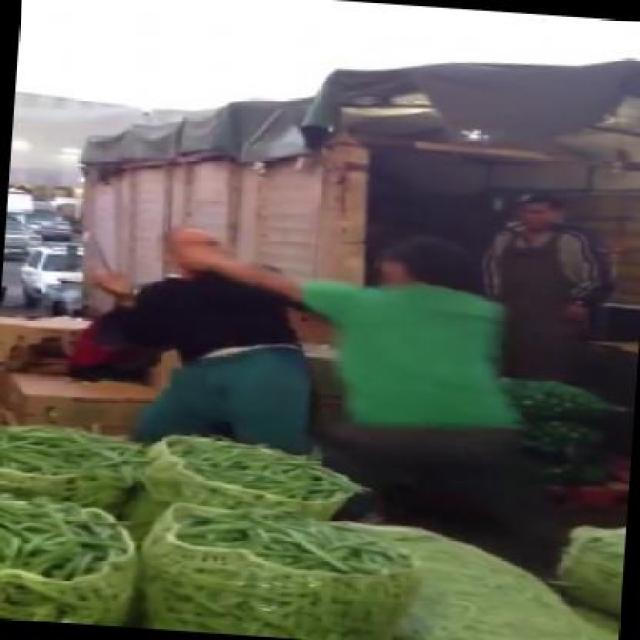fight: (99, 218, 518, 451)
non-fight: (473, 191, 612, 386)
